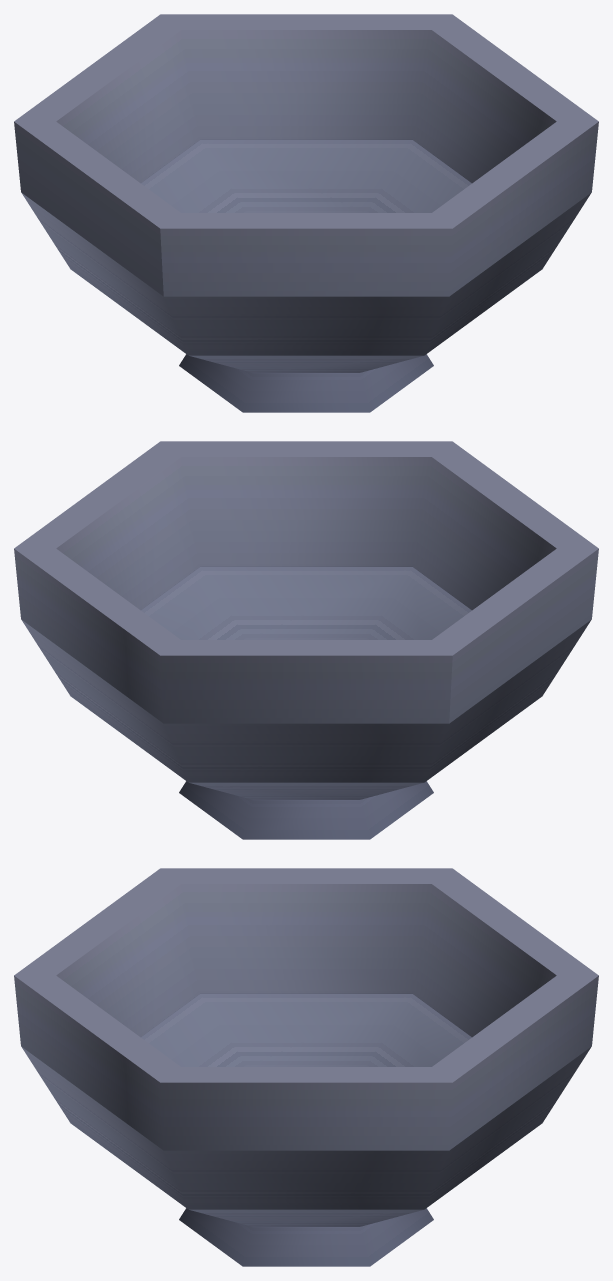
The model's file is mortar.glb.
The picture shows the model from 3 angles, top to bottom: view 1: azimuth 30°, elevation 25°; view 2: azimuth 150°, elevation 25°; view 3: azimuth 270°, elevation 25°; orthographic projection.
Parts seen in each view (by area): view 1: mortar; view 2: mortar; view 3: mortar.
Part boxes in pixels (x1,y1,x2,y2): mortar: [14, 14, 598, 412]; mortar: [14, 441, 598, 839]; mortar: [14, 868, 598, 1266].
Size of the model in its own units: 0.3956 by 0.2104 by 0.4567.
1 material, 1 textured.
